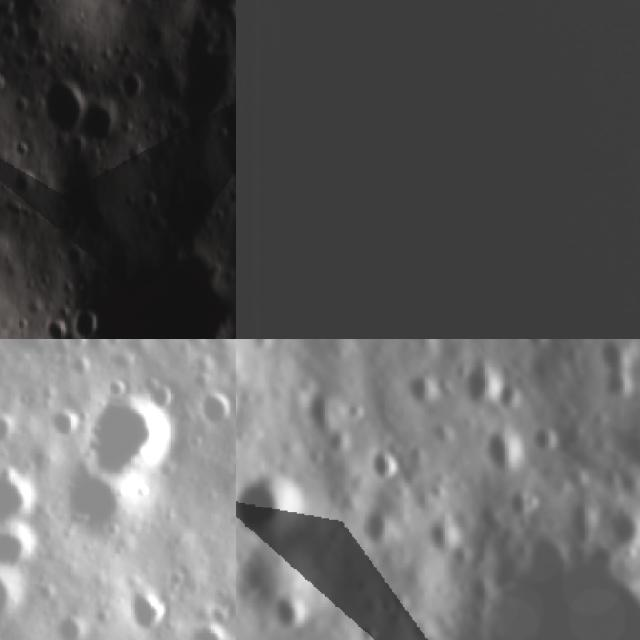crater: (236, 0, 640, 339), (381, 469, 640, 640), (85, 391, 190, 495), (236, 451, 311, 546), (59, 467, 136, 546), (447, 339, 516, 411), (471, 412, 535, 482), (35, 70, 86, 142), (261, 581, 318, 640), (352, 432, 406, 489), (346, 497, 400, 549), (594, 493, 640, 552), (394, 364, 443, 416), (79, 97, 122, 155), (523, 413, 569, 464), (593, 362, 640, 408), (586, 339, 640, 378), (0, 472, 43, 517), (200, 390, 236, 439), (127, 588, 163, 636), (0, 526, 44, 565), (69, 302, 105, 339), (117, 66, 150, 103), (47, 405, 82, 439), (0, 562, 18, 628), (32, 311, 66, 339), (54, 611, 86, 640), (236, 367, 247, 433), (65, 356, 91, 379), (186, 628, 226, 640), (15, 390, 38, 410), (209, 604, 232, 622), (0, 68, 14, 97), (62, 339, 90, 349), (227, 490, 236, 519), (0, 416, 10, 442)
